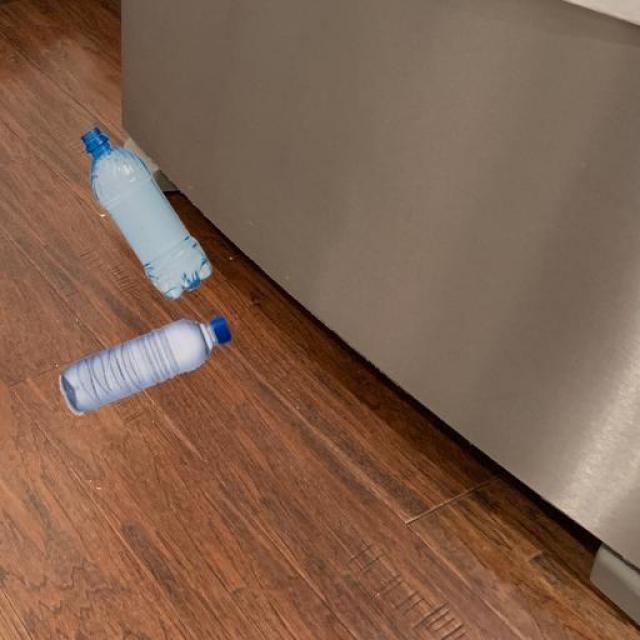bottle: (73, 121, 232, 302), (45, 313, 230, 416)
